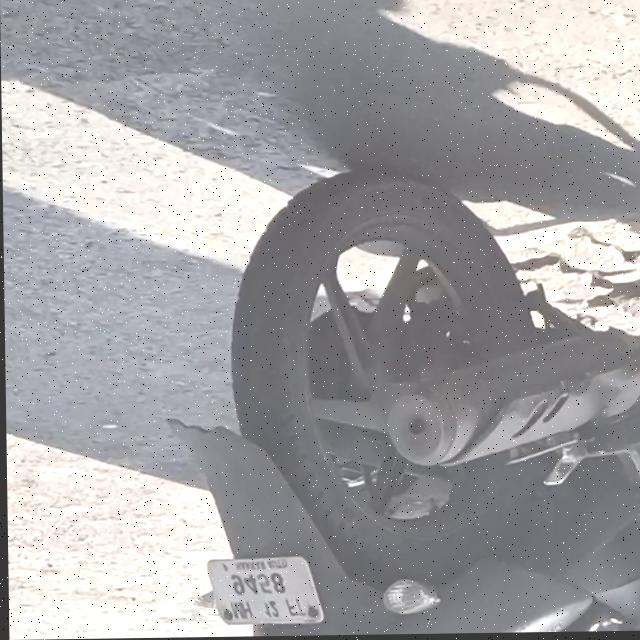plate: (202, 550, 322, 634)
